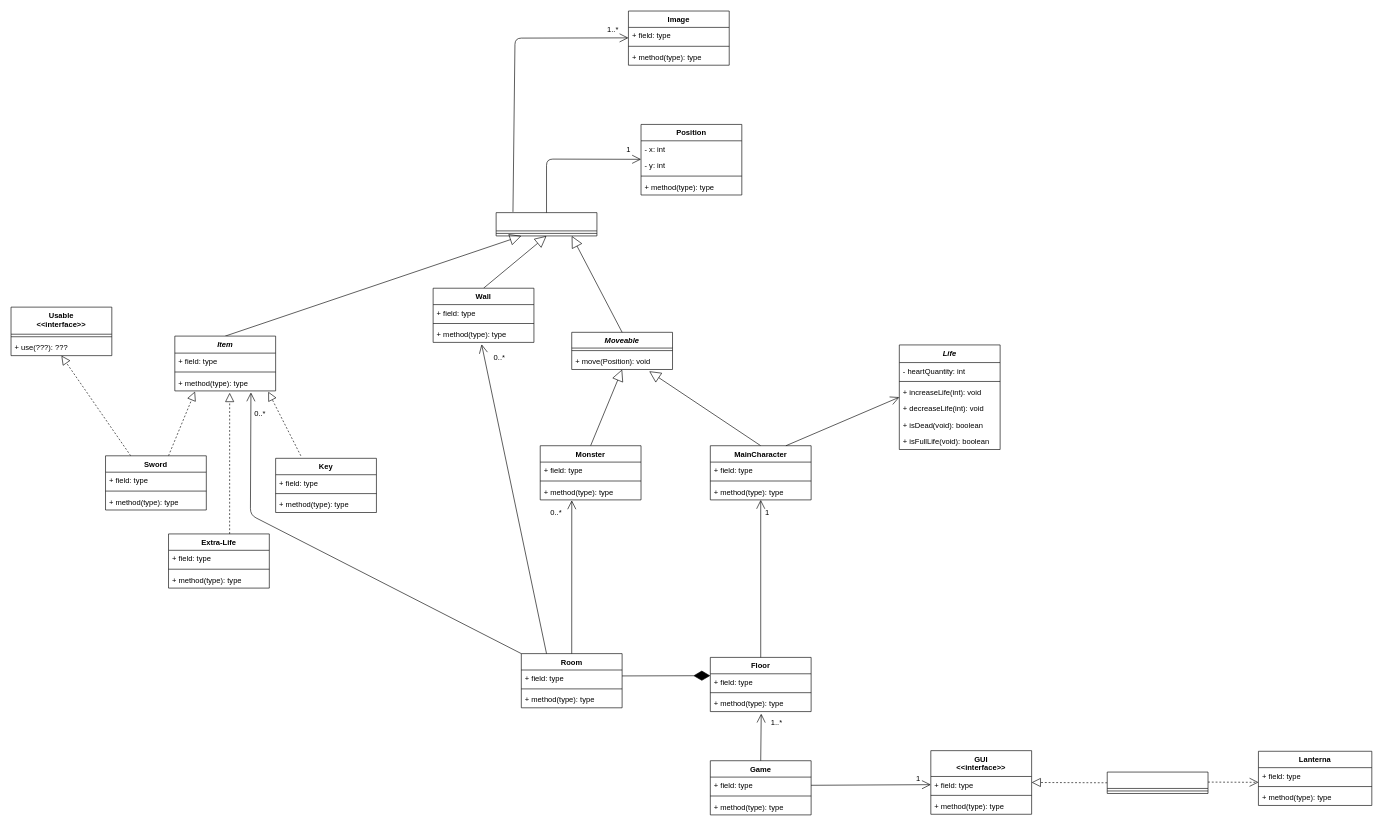
Image size: 1383x828. Some labels were removed from this diagram. The shapes that lost their labels are listed below. From the top down, each one's centre as x and y in pixels, then its label:
(x=546, y=224): Object
(x=1157, y=782): Lanterna GUI
